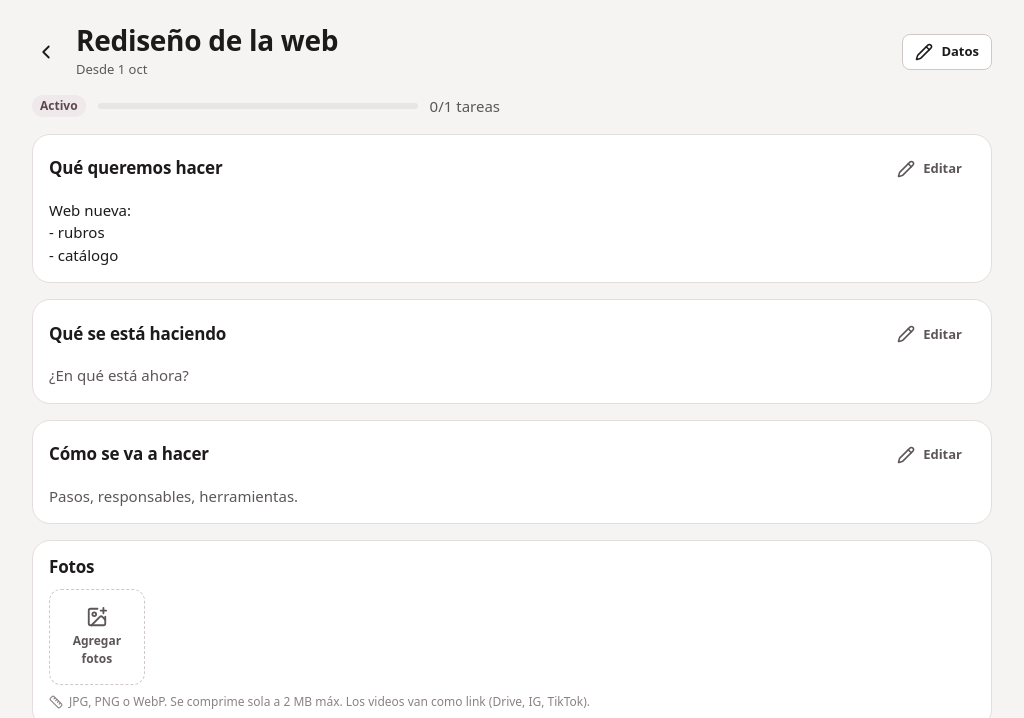
Test case: proyectos › dos campos guardados seguidos terminan los dos
The width and height of the screenshot is (1024, 718).
Expected: the heading "Qué se está haciendo" is shown, 49,324 -> 226,344
Click the button "Editar" in the row of "Qué se está haciendo" at (930, 334), box 884,316 -> 975,352
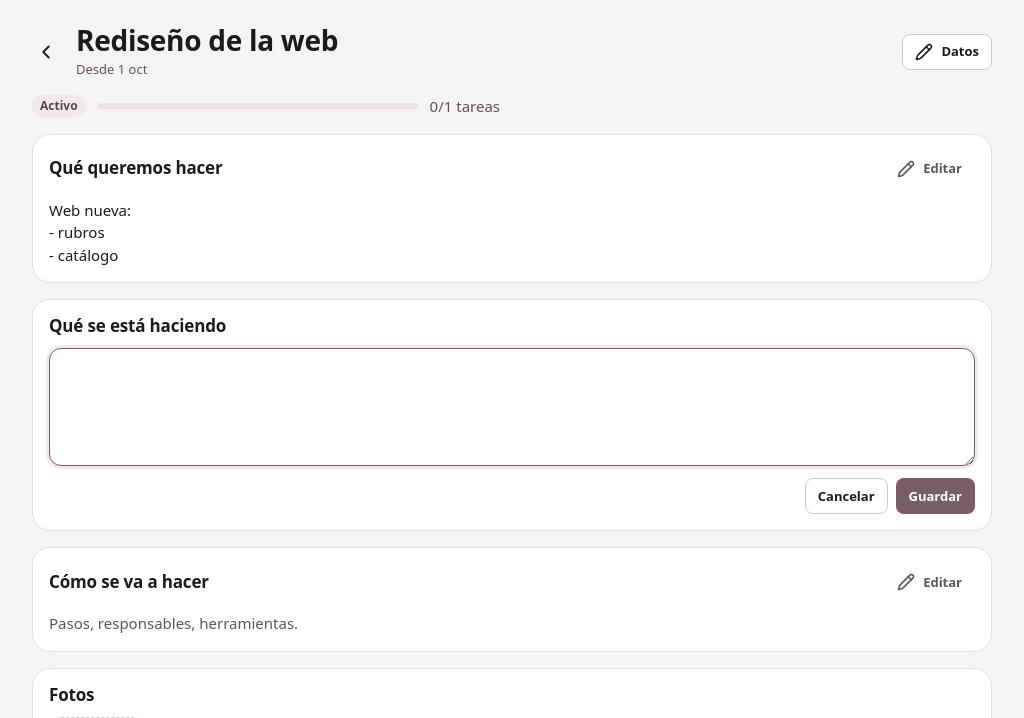
Type "x" into the text box at (512, 408), box 49,348 -> 975,466
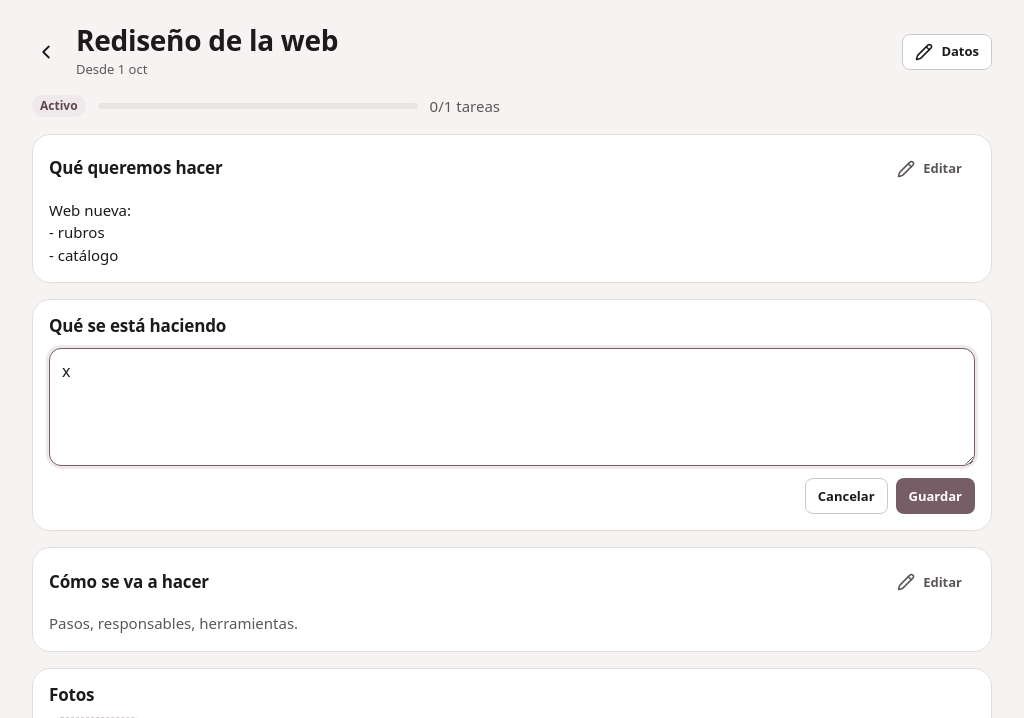
Click the button "Guardar" at (935, 496), box 896,478 -> 975,514
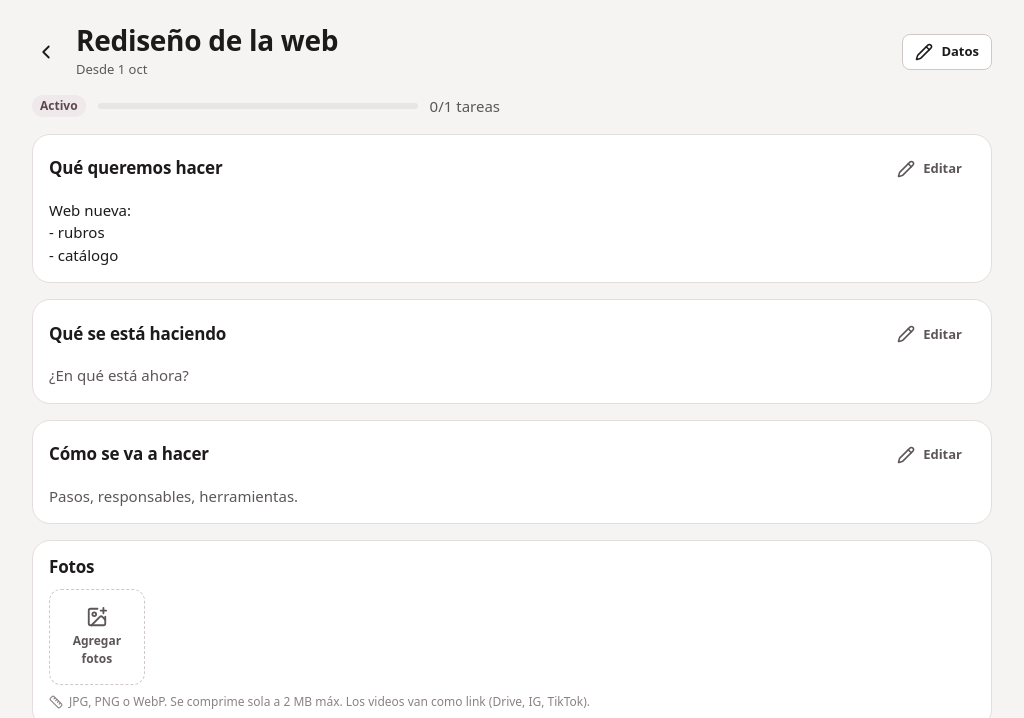
Click the button "Editar" in the row of "Cómo se va a hacer" at (930, 455), box 884,437 -> 975,473
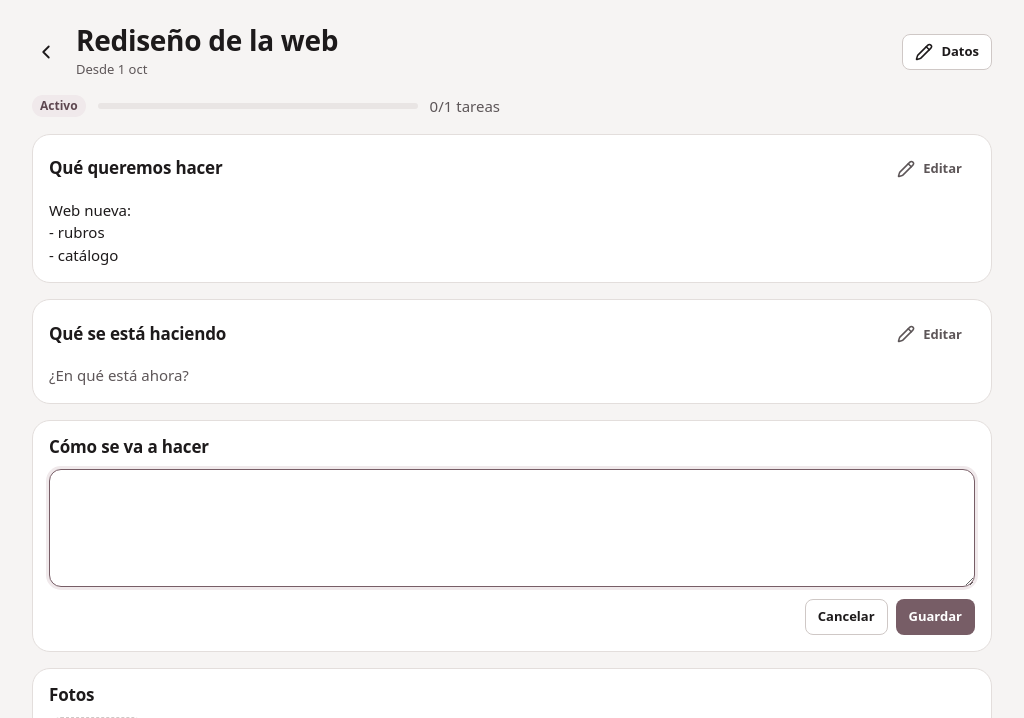
Type "x" into the text box at (512, 528), box 49,469 -> 975,587
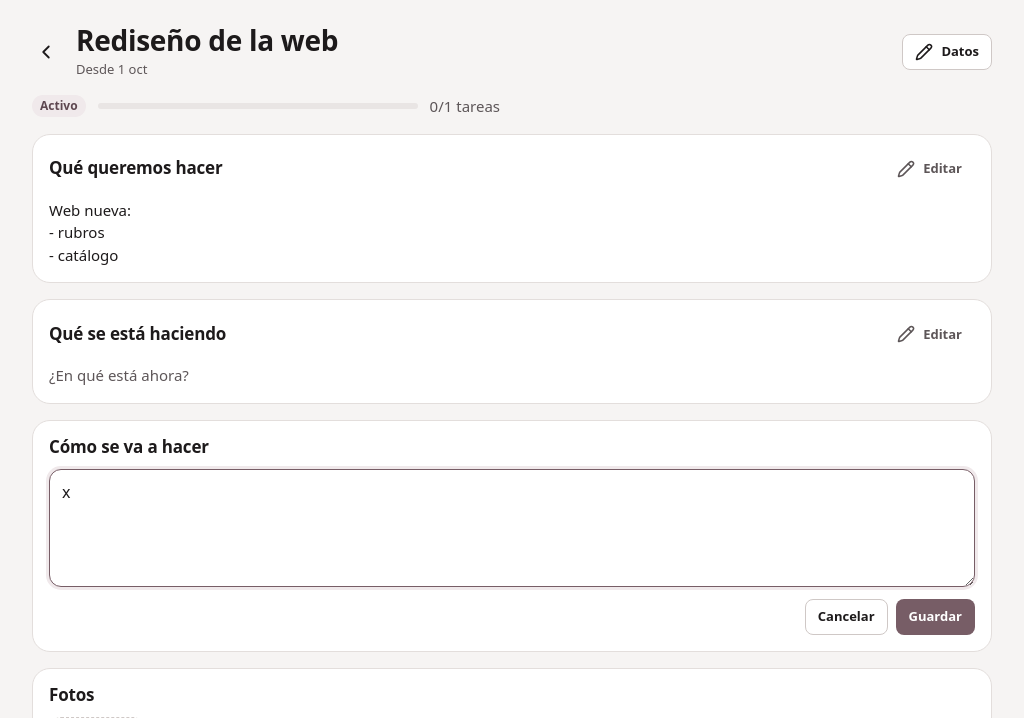
Click the button "Guardar" at (935, 617), box 896,599 -> 975,635
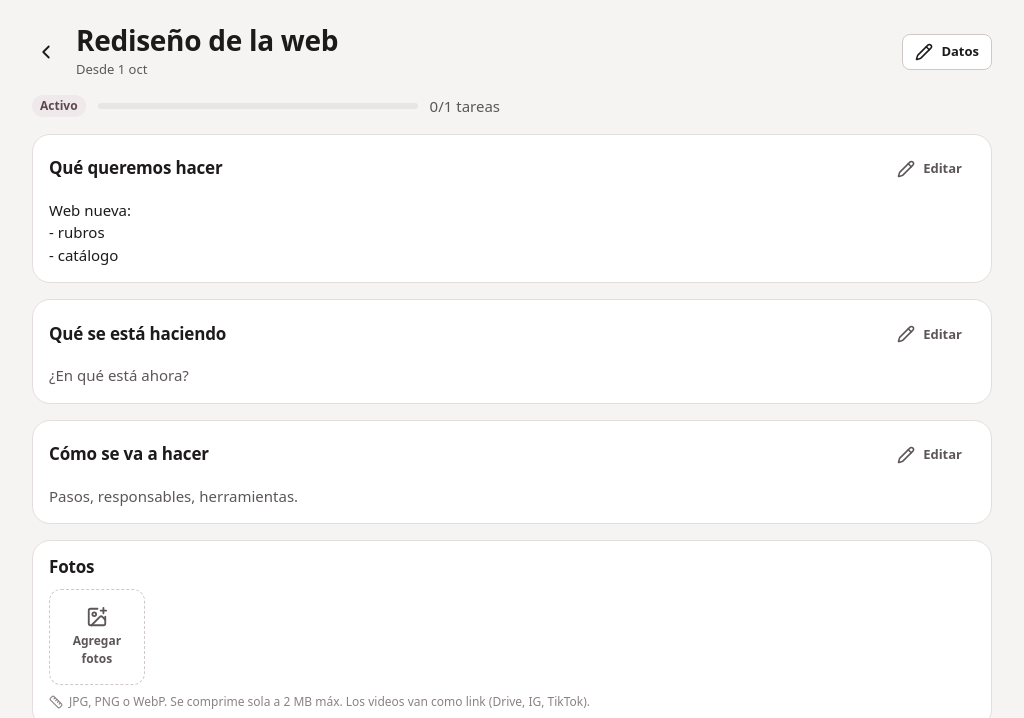
Now the button "Guardar" is gone
